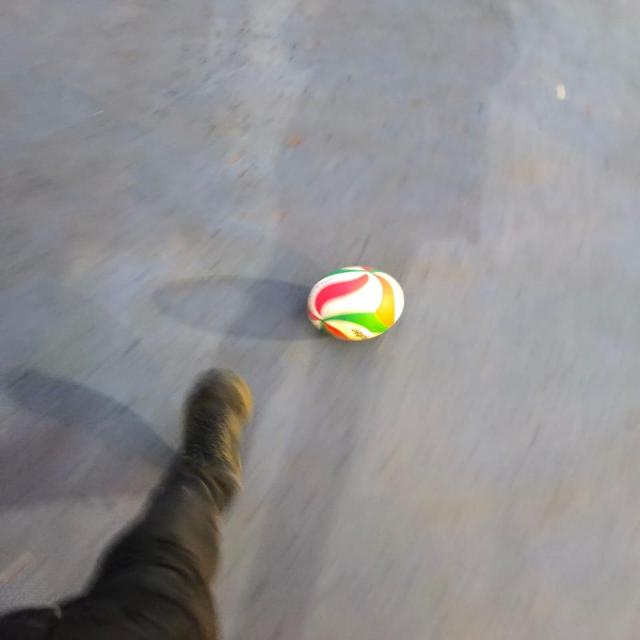volleyball: (306, 266, 405, 341)
